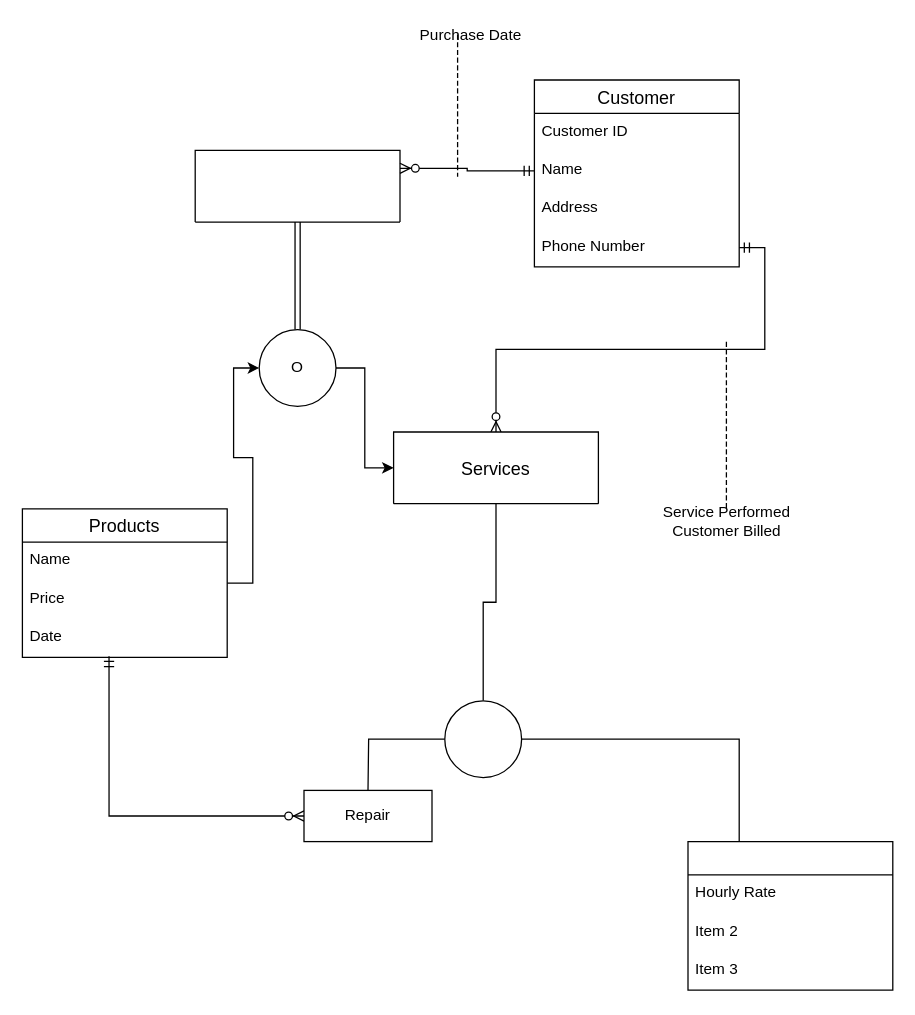
This 915x1015 diagram has some shape labels left out. The box of each missing label's shape, as (x1, y1, x2, y2) in pixels:
Maintenance: (687, 840, 893, 990)
Offerings: (194, 149, 400, 222)
